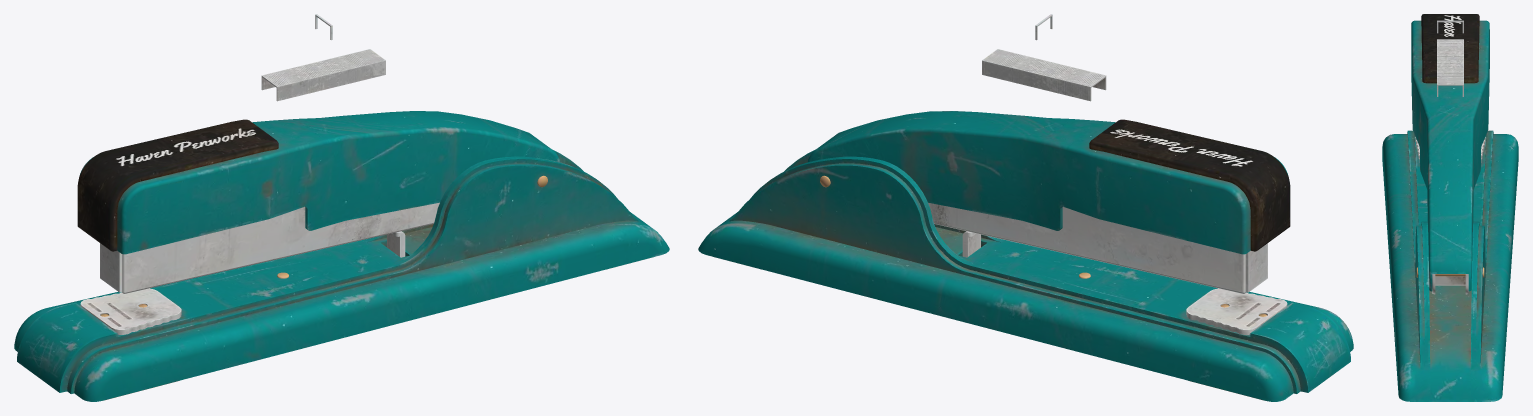
File: vintage_stapler.glb
3 views of the same model, side by side, from view 1: azimuth 30°, elevation 25°; view 2: azimuth 150°, elevation 25°; view 3: azimuth 270°, elevation 25° (orthographic). The views are drawn at different scales.
Parts seen in each view (by area): view 1: vintage_stapler_base, vintage_stapler_top, vintage_stapler_staples; view 2: vintage_stapler_base, vintage_stapler_top, vintage_stapler_staples; view 3: vintage_stapler_base, vintage_stapler_top, vintage_stapler_staples.
Part boxes in pixels (bbox=[...]): vintage_stapler_base: bbox=[14, 149, 669, 401]; vintage_stapler_top: bbox=[77, 111, 560, 293]; vintage_stapler_staples: bbox=[261, 49, 385, 101]; vintage_stapler_base: bbox=[698, 149, 1353, 401]; vintage_stapler_top: bbox=[807, 111, 1290, 293]; vintage_stapler_staples: bbox=[982, 49, 1106, 101]; vintage_stapler_base: bbox=[1382, 130, 1518, 401]; vintage_stapler_top: bbox=[1411, 14, 1489, 294]; vintage_stapler_staples: bbox=[1437, 39, 1463, 96].
Bounding box in the file's own units: 0.2085 × 0.0953 × 0.0474.
Materials: 1 (1 with a texture image).
